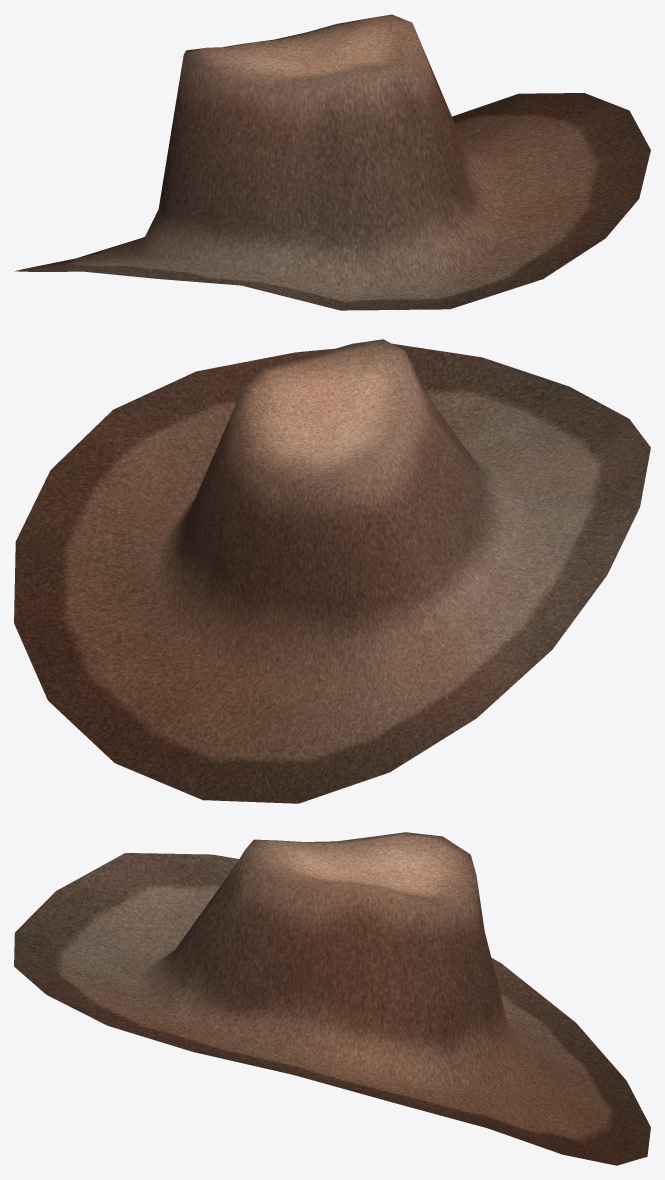
The model's file is topi_koboy.FBX.
3 views of the same model, one above another, from view 1: azimuth 30°, elevation 25°; view 2: azimuth 150°, elevation 25°; view 3: azimuth 270°, elevation 25° (orthographic). The views are drawn at different scales.
Visible parts, largest first — view 1: topi_koboy; view 2: topi_koboy; view 3: topi_koboy.
Part boxes in pixels (left/top/right/bottom): topi_koboy: left=15, top=14, right=650, bottom=310; topi_koboy: left=14, top=339, right=650, bottom=803; topi_koboy: left=14, top=832, right=650, bottom=1165.
Size of the model in its own units: 14.77 by 8.25 by 16.38.
